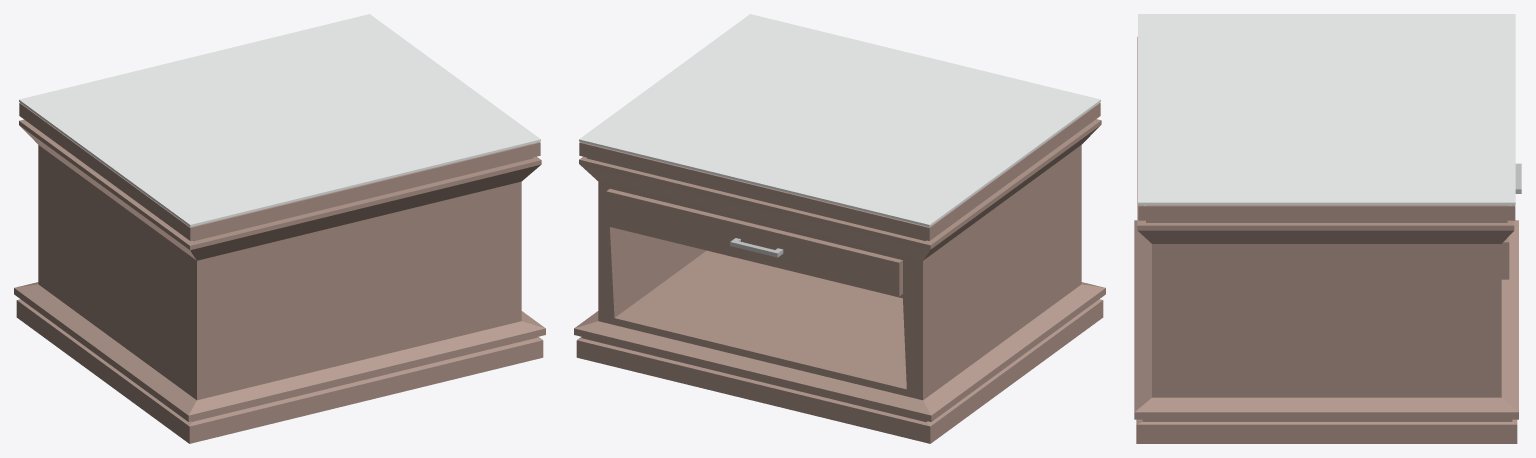
Rendered from cornertable01.gltf.
The picture shows the model from 3 angles, left to right: view 1: azimuth 30°, elevation 25°; view 2: azimuth 150°, elevation 25°; view 3: azimuth 270°, elevation 25°; orthographic projection. The views are drawn at different scales.
Parts seen in each view (by area): view 1: model; view 2: model; view 3: model.
Boxes of the visible parts, x1,y1,x2,y2 form: model: (14,14,545,443); model: (574,14,1105,443); model: (1134,14,1521,443).
Size of the model in its own units: 0.7192 by 0.4196 by 0.6123.
